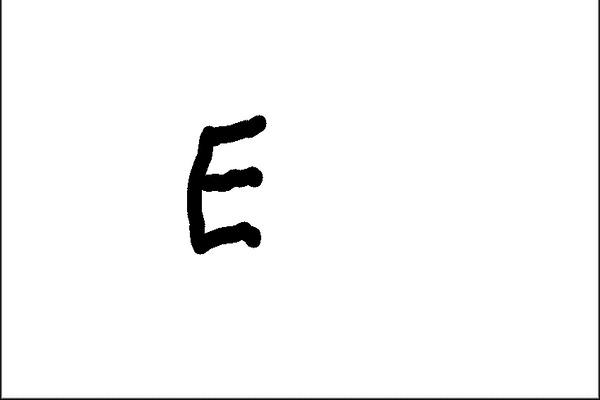E: (182, 105, 272, 256)
